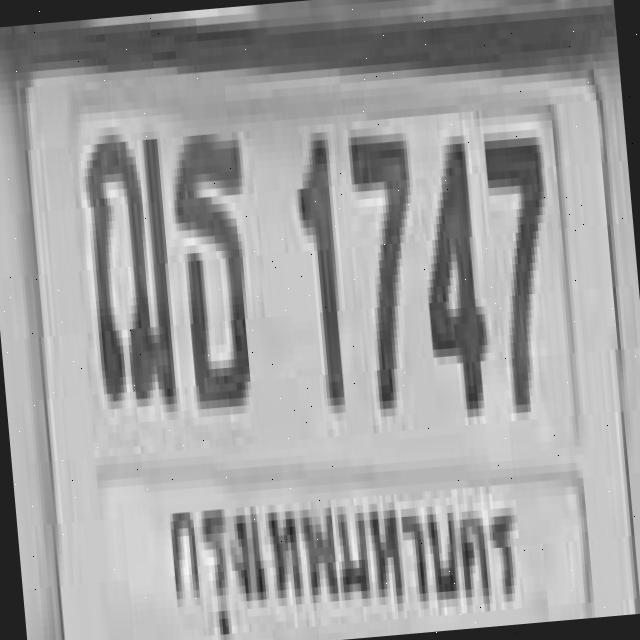1: (288, 124, 348, 407)
21ChorChoe: (78, 123, 179, 402)
33ThorThong: (164, 124, 260, 402)
4: (410, 127, 490, 412)
7: (344, 125, 425, 402), (479, 129, 558, 406)
Bangkok: (148, 439, 530, 640)
